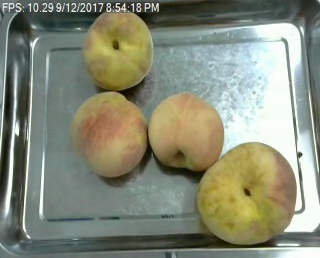Peach: (196, 141, 298, 245), (70, 90, 146, 177), (149, 92, 226, 170), (82, 8, 154, 89)
